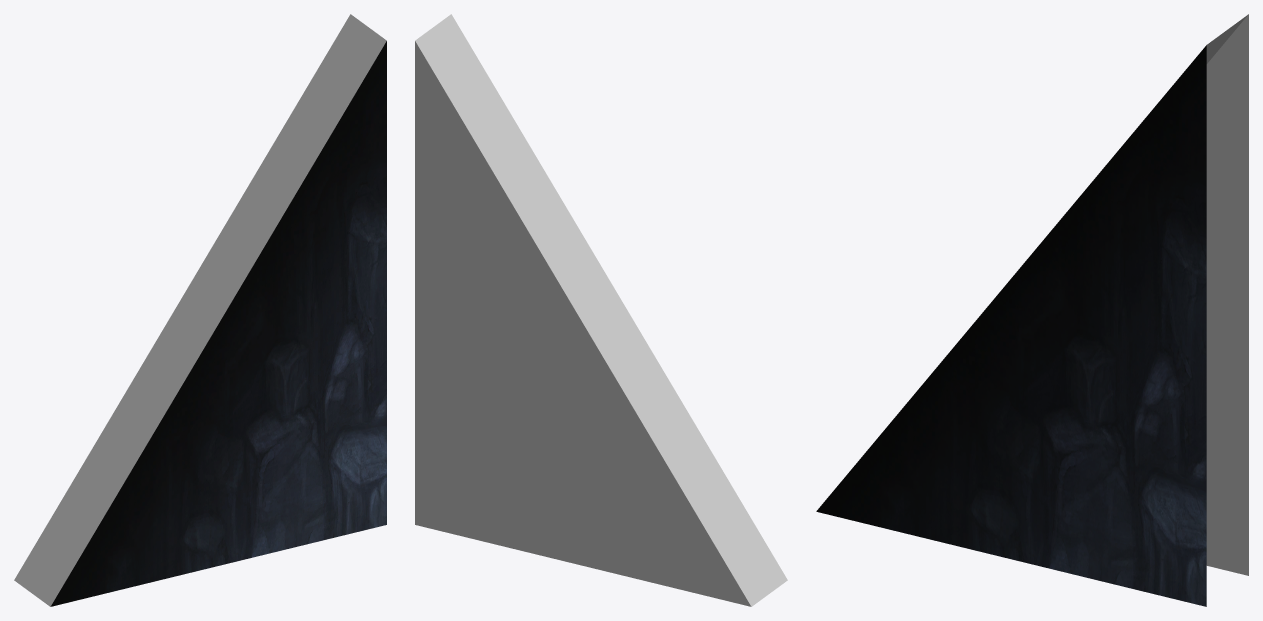
The model's file is mine_fade_transition_03.fbx.
3 renders of one model, left to right at view 1: azimuth 30°, elevation 25°; view 2: azimuth 150°, elevation 25°; view 3: azimuth 330°, elevation 25°, orthographic. The views are drawn at different scales.
Visible parts, largest first — view 1: obj1.027; view 2: obj1.027; view 3: obj1.027.
Part boxes in pixels (left/top/right/bottom): obj1.027: left=14, top=14, right=386, bottom=606; obj1.027: left=415, top=14, right=787, bottom=606; obj1.027: left=816, top=14, right=1248, bottom=606.
Size of the model in its own units: 4 by 5.5 by 0.75.
